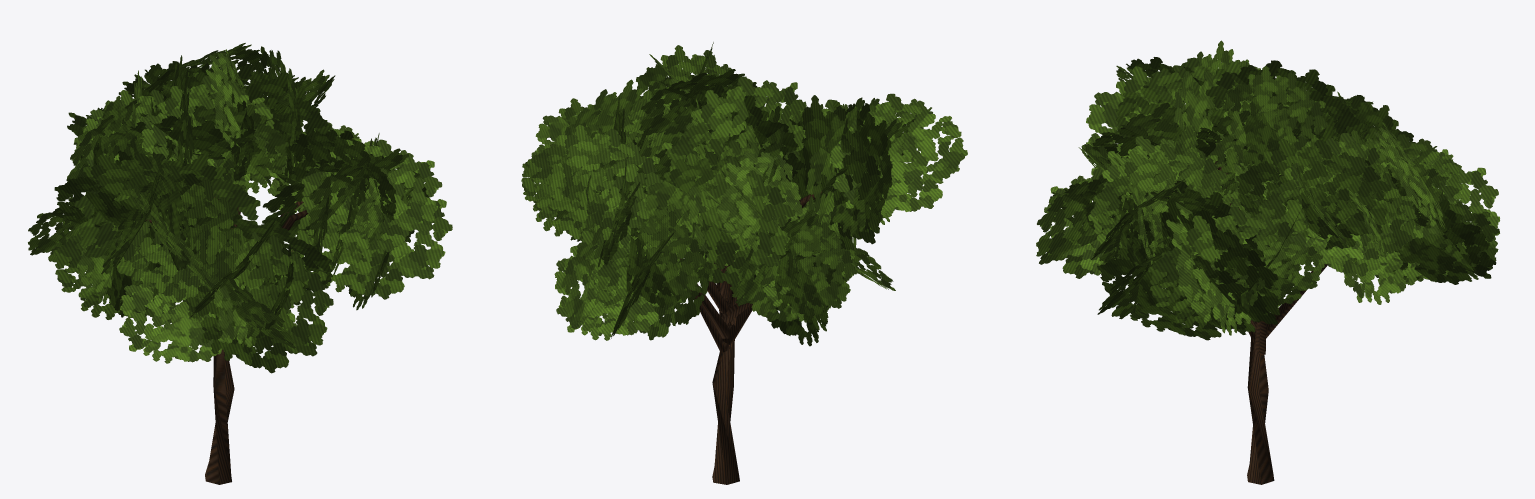
The model's file is oak1Far.glb.
The picture shows the model from 3 angles, left to right: view 1: azimuth 30°, elevation 25°; view 2: azimuth 150°, elevation 25°; view 3: azimuth 270°, elevation 25°; orthographic projection.
Visible parts, largest first — view 1: Rameaux feuillus oak1Far, Tronc et branches oak1Far; view 2: Rameaux feuillus oak1Far, Tronc et branches oak1Far; view 3: Rameaux feuillus oak1Far, Tronc et branches oak1Far.
Boxes of the visible parts, box(x1,y1,x2,y2) form: Rameaux feuillus oak1Far: box(28, 43, 452, 373); Tronc et branches oak1Far: box(114, 197, 325, 484); Rameaux feuillus oak1Far: box(521, 42, 967, 346); Tronc et branches oak1Far: box(680, 191, 822, 484); Rameaux feuillus oak1Far: box(1036, 40, 1499, 340); Tronc et branches oak1Far: box(1215, 161, 1327, 484).
Size of the model in its own units: 9.19 by 9.39 by 10.39.
Materials: 2 (2 with a texture image).
